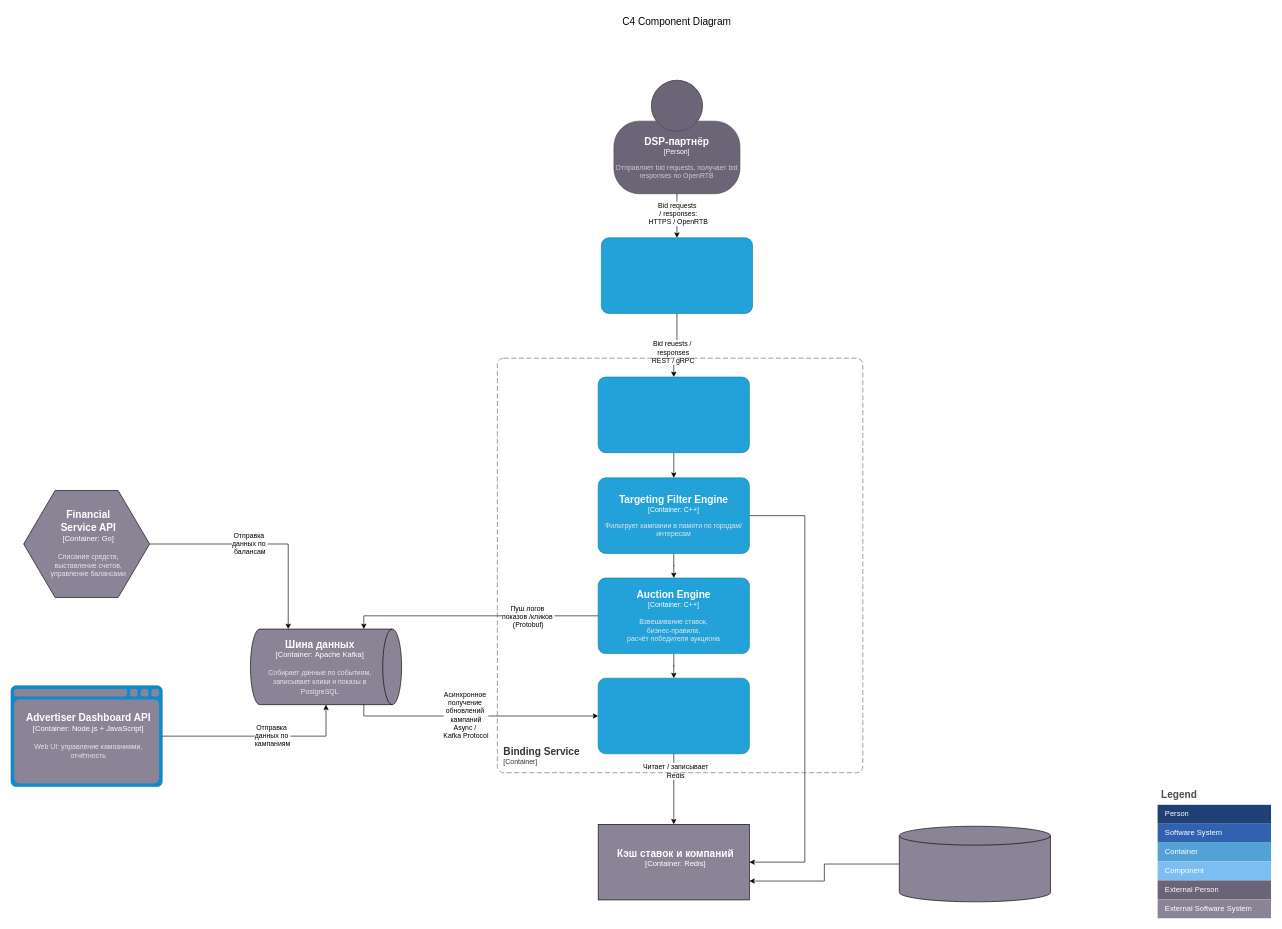
This 1282x929 diagram has some shape labels left out. Here are the shapes that lost their labels. From the top down, the box of each, then its label:
(601, 237, 753, 313): API Gateway [Container: Nginx] Routing, rate limiting, circuit breaker
(598, 376, 749, 453): API Handler [Container: Go] Принимает запросы и парсит их
(598, 678, 749, 754): Cache Manager [Container: C++] Быстро читает/пишет данные в Redis
(899, 826, 1051, 902): AD Service [Container: PostgreSQL] Кандидаты в рекламу
